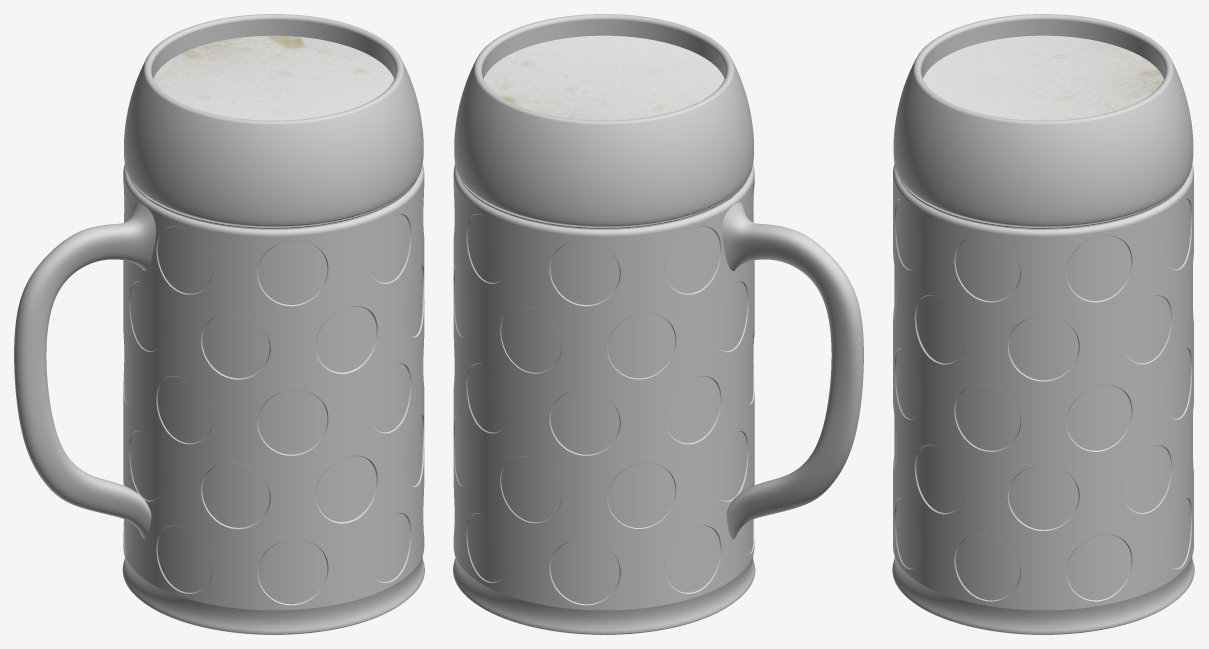
File: Bia.fbx
The picture shows the model from 3 angles, left to right: view 1: azimuth 30°, elevation 25°; view 2: azimuth 150°, elevation 25°; view 3: azimuth 270°, elevation 25°; orthographic projection.
Parts seen in each view (by area): view 1: Object_3, Object_4, Object_1; view 2: Object_3, Object_4, Object_1; view 3: Object_3, Object_4.
Boxes of the visible parts, bbox=[...] form: Object_3: bbox=[122, 14, 424, 634]; Object_4: bbox=[153, 35, 393, 120]; Object_1: bbox=[14, 202, 155, 539]; Object_3: bbox=[453, 14, 755, 634]; Object_4: bbox=[484, 35, 724, 120]; Object_1: bbox=[722, 202, 863, 539]; Object_3: bbox=[892, 14, 1194, 634]; Object_4: bbox=[923, 35, 1163, 120].
Size of the model in its own units: 57.16 by 38.41 by 70.77.
Materials: 2 (1 with a texture image).
